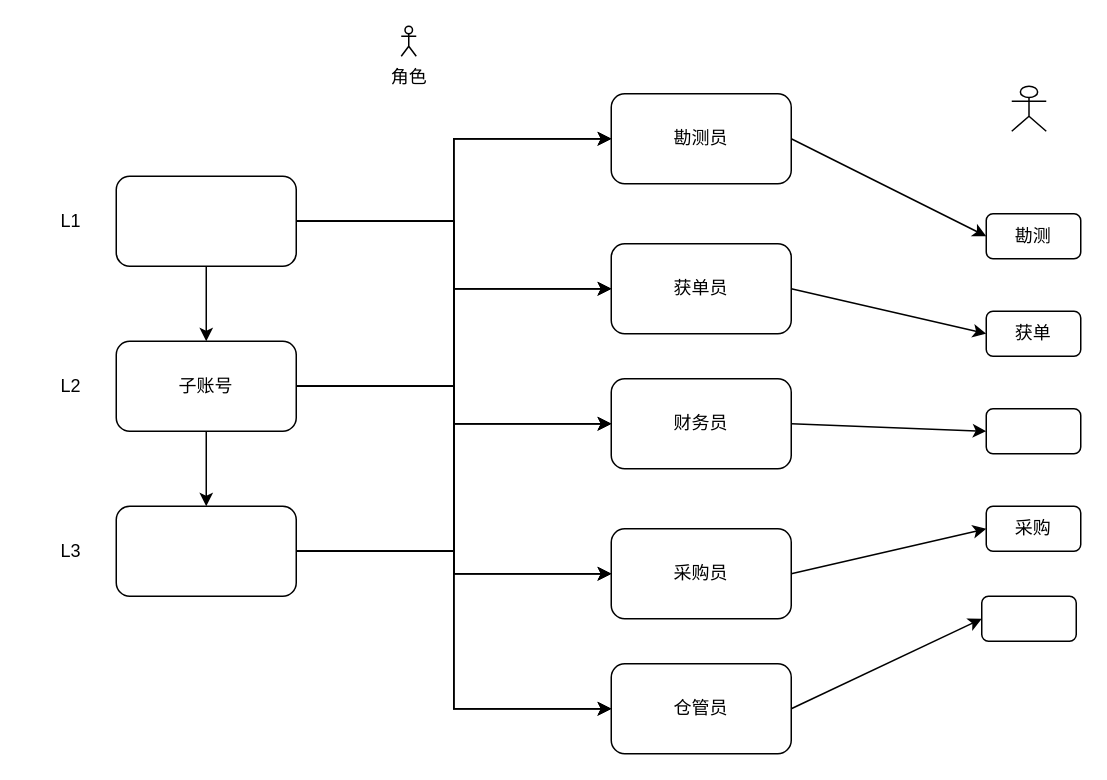
Image size: 1107x780. Some labels were removed from this diagram. The shapes that lost their labels are listed below. From the top down, each one's centre as x and y in pixels, then its label:
the point at 1028,108: 权限
the point at 205,220: 主账号
the point at 1033,430: 财务
the point at 205,550: 员工账号
the point at 1028,618: 仓库
